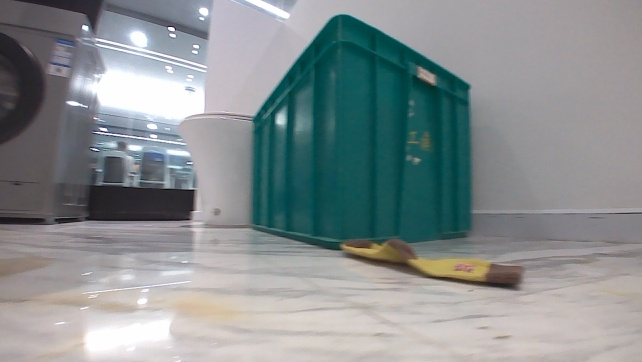socks: (340, 237, 527, 290)
toilet: (176, 109, 256, 227)
washing_machine1: (0, 0, 107, 224)
